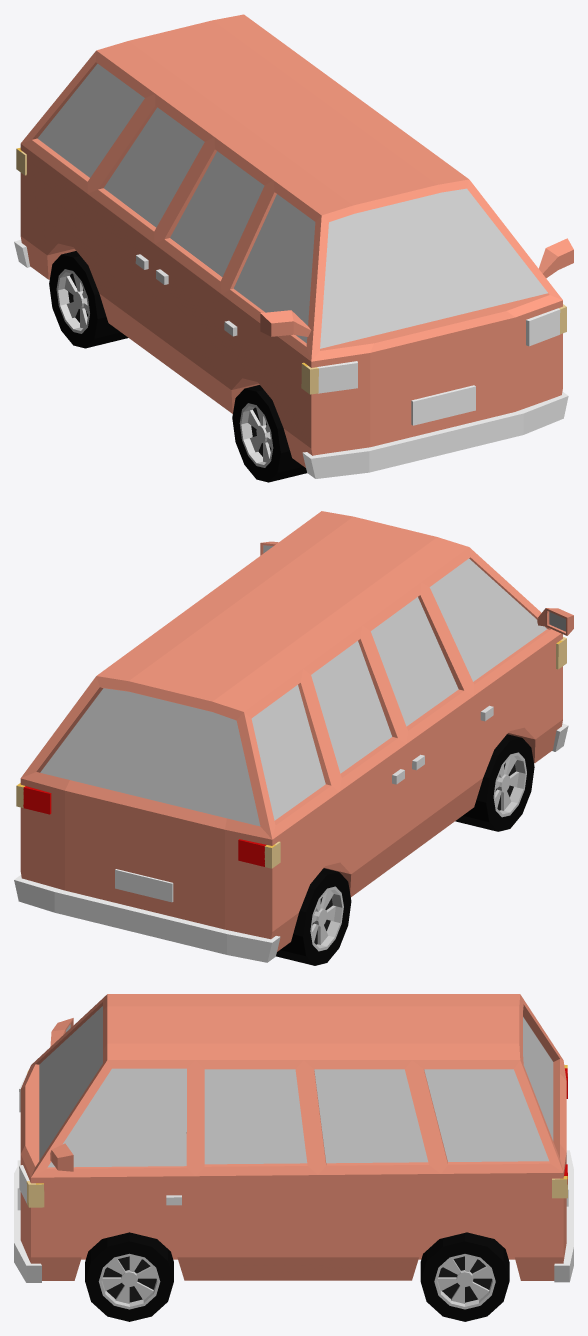
The model's file is Car-05-A.fbx.
The picture shows the model from 3 angles, top to bottom: view 1: azimuth 30°, elevation 25°; view 2: azimuth 150°, elevation 25°; view 3: azimuth 270°, elevation 25°; orthographic projection. The views are drawn at different scales.
Parts seen in each view (by area): view 1: Car-05, FR, BR, HeadLight, Light-Right; view 2: Car-05, BR, FR, Break-Light, Light-Right; view 3: Car-05, BL, FL, Light-Left.
Boxes of the visible parts, x1,y1,x2,y2 form: Car-05: [14, 14, 573, 478]; FR: [232, 385, 306, 482]; BR: [49, 251, 128, 348]; HeadLight: [317, 308, 560, 393]; Light-Right: [16, 148, 318, 394]; Car-05: [14, 511, 573, 962]; BR: [276, 868, 351, 965]; FR: [455, 734, 534, 831]; Break-Light: [23, 787, 264, 866]; Light-Right: [264, 637, 566, 868]; Car-05: [14, 994, 573, 1282]; BL: [420, 1232, 509, 1321]; FL: [85, 1232, 173, 1321]; Light-Left: [26, 1178, 567, 1207].
Size of the model in its own units: 2.52 by 2.06 by 4.35.
